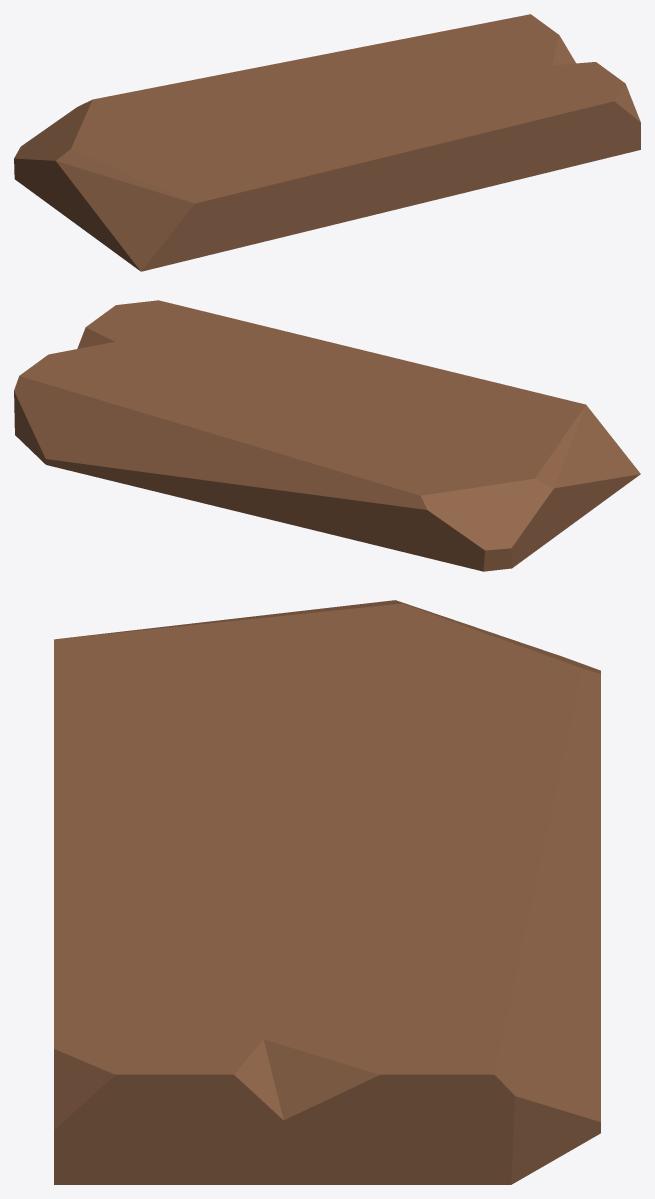
The model's file is Stoneslab_004.FBX.
3 views of the same model, one above another, from view 1: azimuth 30°, elevation 25°; view 2: azimuth 150°, elevation 25°; view 3: azimuth 270°, elevation 25° (orthographic). The views are drawn at different scales.
Parts seen in each view (by area): view 1: Stoneslab_004; view 2: Stoneslab_004; view 3: Stoneslab_004.
Part boxes in pixels (<box>): Stoneslab_004: <box>14,14,640,271</box>; Stoneslab_004: <box>14,300,640,571</box>; Stoneslab_004: <box>54,600,600,1184</box>.
Size of the model in its own units: 37.4 by 3.94 by 17.72.
